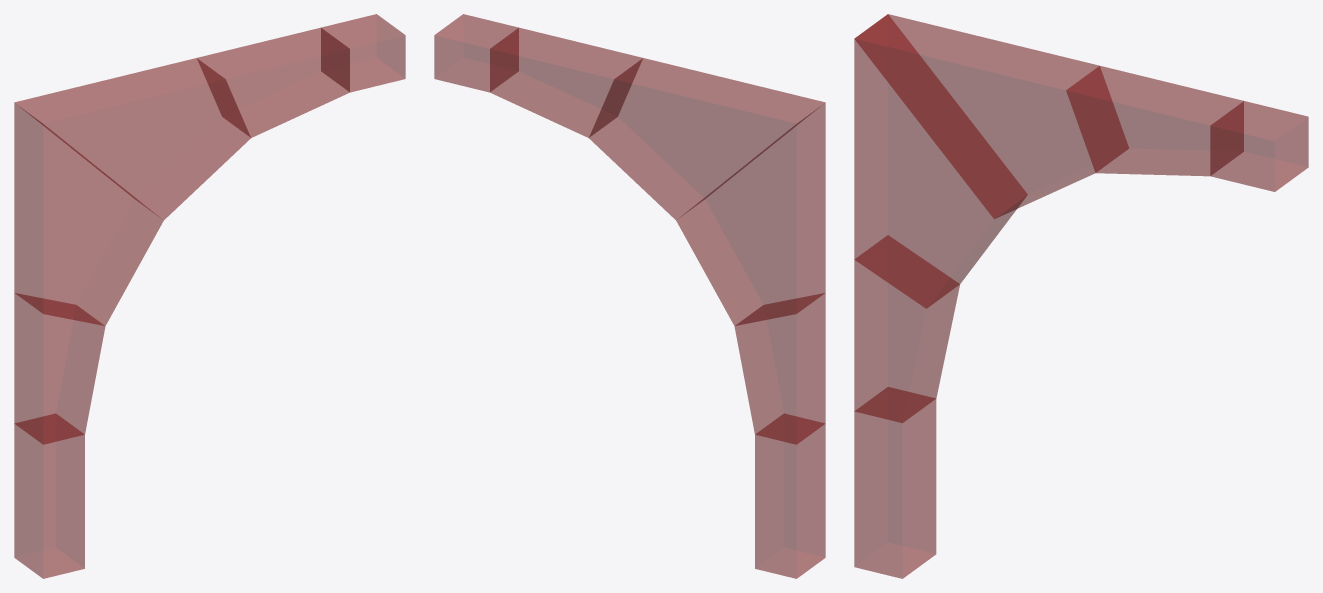
File: SM_Bld_Base_Wall_Circle_01_Collision.fbx
3 views of the same model, side by side, from view 1: azimuth 30°, elevation 25°; view 2: azimuth 150°, elevation 25°; view 3: azimuth 330°, elevation 25° (orthographic). The views are drawn at different scales.
Visible parts, largest first — view 1: SM_Bld_Base_Wall_Circle_01_Collision; view 2: SM_Bld_Base_Wall_Circle_01_Collision; view 3: SM_Bld_Base_Wall_Circle_01_Collision.
Part boxes in pixels (x1=…): SM_Bld_Base_Wall_Circle_01_Collision: x1=14, y1=14, x2=405, y2=578; SM_Bld_Base_Wall_Circle_01_Collision: x1=434, y1=14, x2=825, y2=578; SM_Bld_Base_Wall_Circle_01_Collision: x1=854, y1=14, x2=1308, y2=578.
Bounding box in the file's own units: 250 × 300 × 34.77.
